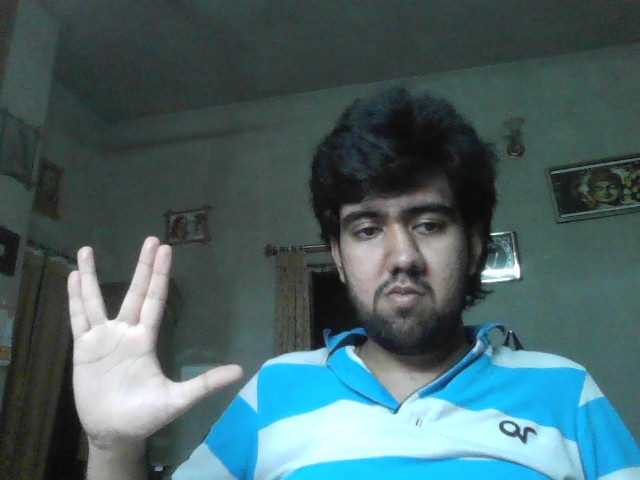LiveLong: (67, 236, 245, 443)
